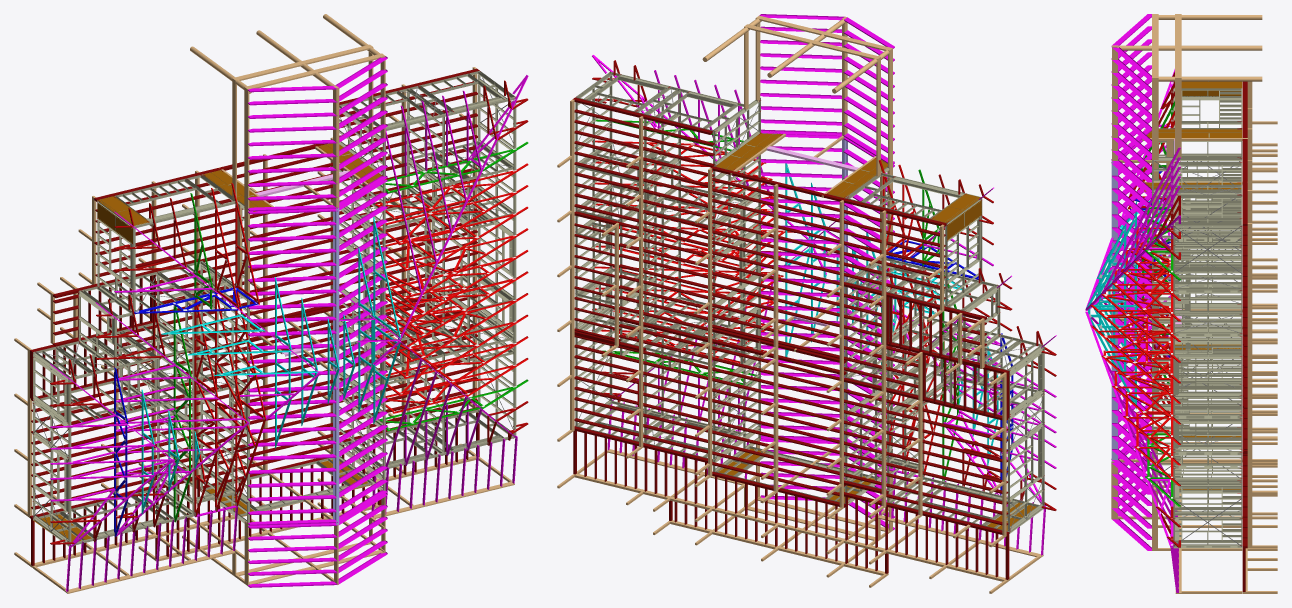
3 renders of one model, left to right at view 1: azimuth 30°, elevation 25°; view 2: azimuth 150°, elevation 25°; view 3: azimuth 270°, elevation 25°, orthographic. The views are drawn at different scales.
Parts seen in each view (by area): view 1: Shell 2039, Shell 2497, Shell 2053, Shell 2043, Shell 1769, Shell 2033, Shell 2034; view 2: Shell 1782, Shell 1769, Shell 2072, Shell 2101, Shell 2003, Shell 2043, Shell 2033, Shell 1966, Shell 1873, Shell 2104, Shell 1942; view 3: Shell 2039, Shell 2029, Shell 1769, Shell 2323, Shell 2154, Shell 2126, Shell 2157, Shell 2028, Shell 2053, Shell 2032, Shell 2048, Shell 1761 (+37 smaller).
Part boxes in pixels (left/top/right/bottom): Shell 2039: left=333, top=208, right=339, bottom=524; Shell 2497: left=400, top=75, right=528, bottom=338; Shell 2053: left=333, top=85, right=339, bottom=208; Shell 2043: left=234, top=44, right=373, bottom=80; Shell 1769: left=203, top=170, right=271, bottom=211; Shell 2033: left=246, top=53, right=385, bottom=88; Shell 2034: left=244, top=86, right=249, bottom=210; Shell 1782: left=716, top=131, right=782, bottom=170; Shell 1769: left=827, top=158, right=894, bottom=198; Shell 2072: left=881, top=210, right=886, bottom=345; Shell 2101: left=773, top=358, right=778, bottom=493; Shell 2003: left=573, top=97, right=712, bottom=134; Shell 2043: left=744, top=24, right=879, bottom=59; Shell 2033: left=755, top=15, right=890, bottom=50; Shell 1966: left=574, top=426, right=712, bottom=462; Shell 1873: left=710, top=166, right=844, bottom=201; Shell 2104: left=708, top=342, right=712, bottom=477; Shell 1942: left=712, top=471, right=845, bottom=507; Shell 2039: left=1111, top=160, right=1117, bottom=461; Shell 2029: left=1117, top=45, right=1262, bottom=50; Shell 1769: left=1144, top=129, right=1242, bottom=137; Shell 2323: left=1085, top=312, right=1172, bottom=548; Shell 2154: left=1247, top=223, right=1252, bottom=332; Shell 2126: left=1247, top=439, right=1252, bottom=548; Shell 2157: left=1247, top=332, right=1252, bottom=439; Shell 2028: left=1158, top=76, right=1262, bottom=81; Shell 2053: left=1112, top=45, right=1117, bottom=160; Shell 2032: left=1152, top=79, right=1158, bottom=159; Shell 2048: left=1175, top=79, right=1181, bottom=157; Shell 1761: left=1174, top=81, right=1242, bottom=88.
Size of the model in its own units: 20805 by 20680 by 7618.
